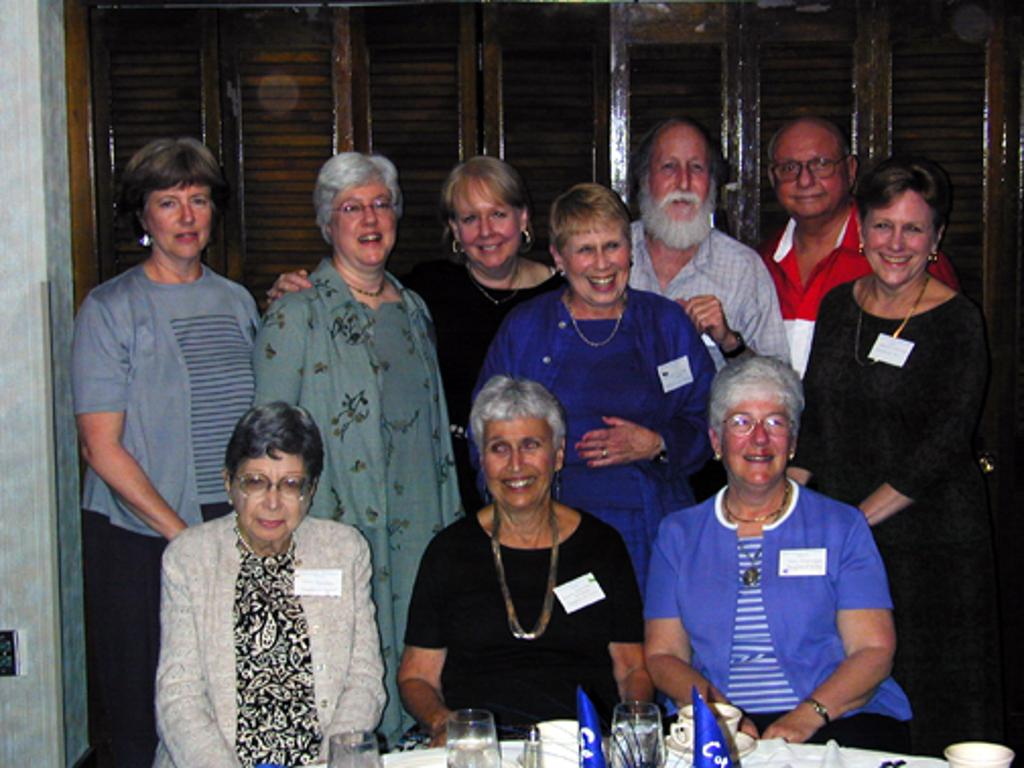face: (862, 186, 936, 290), (556, 204, 630, 304), (142, 166, 210, 258), (650, 128, 710, 230), (236, 452, 304, 540), (488, 412, 546, 510), (726, 398, 792, 484), (776, 130, 840, 216), (454, 178, 512, 266), (338, 172, 392, 260)
